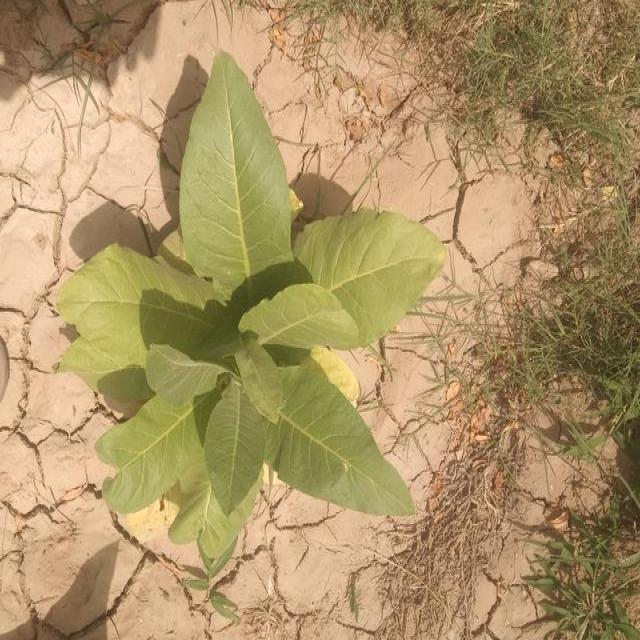crop: (63, 47, 440, 551)
